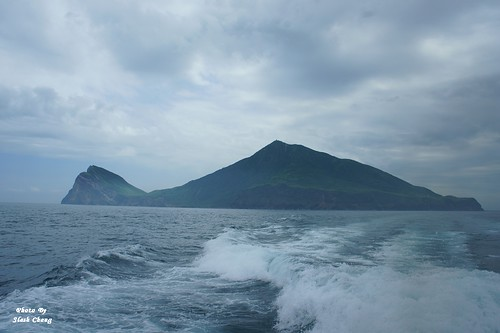turtleIslandLeft: (58, 136, 487, 210)
